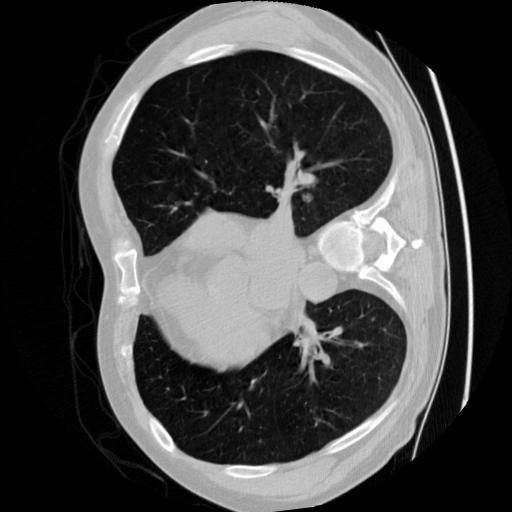nodule: (299, 188, 316, 205)
